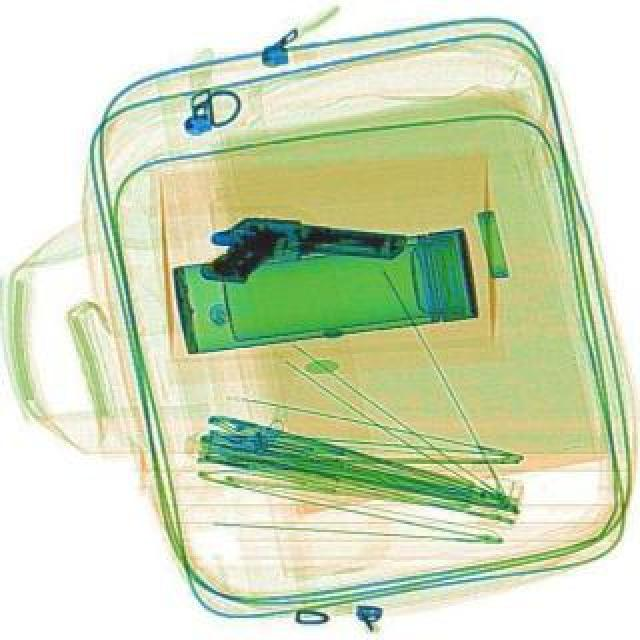gun: (196, 208, 406, 300)
